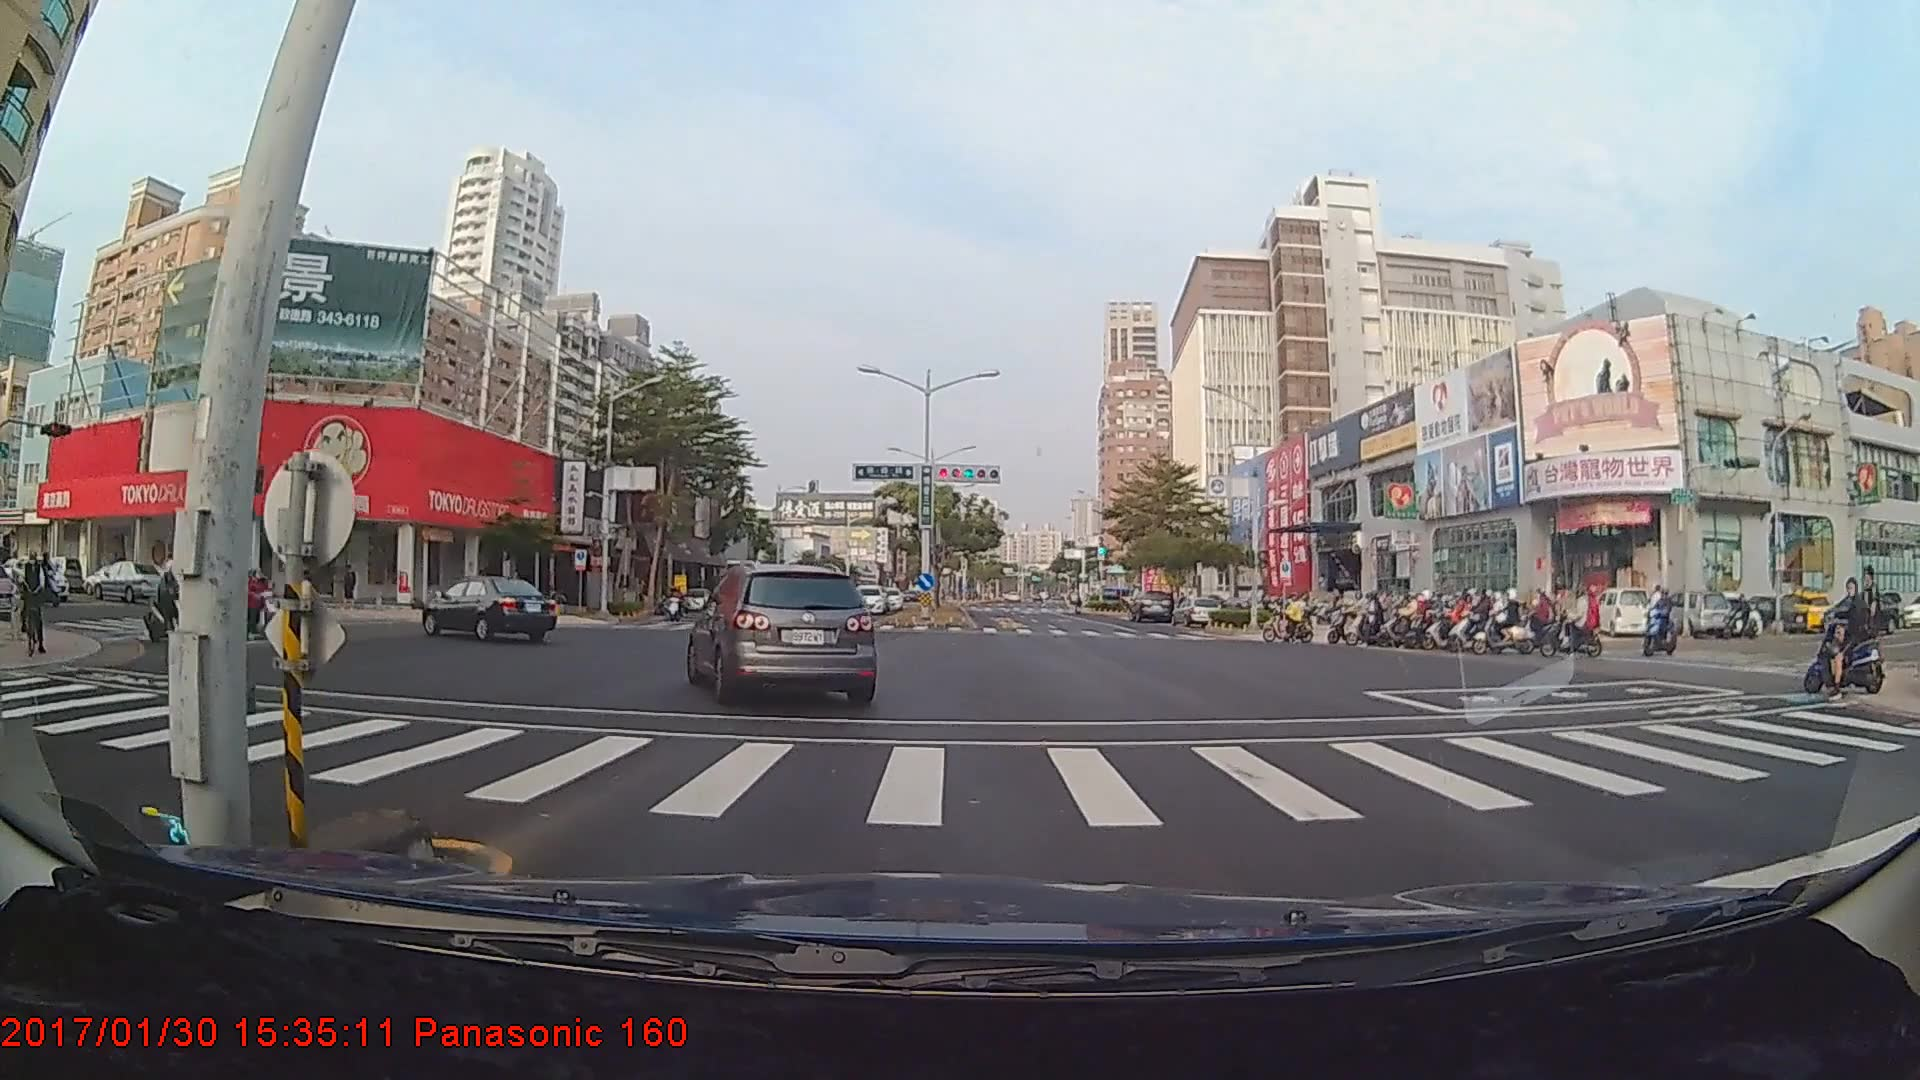pedestrian: (1857, 566, 1888, 681)
rider: (1804, 566, 1899, 701), (1536, 578, 1607, 664), (142, 558, 209, 648), (228, 571, 291, 642), (11, 555, 53, 662), (1479, 588, 1538, 655), (1315, 592, 1377, 646), (1450, 590, 1507, 648), (1259, 591, 1316, 642), (1359, 593, 1412, 648), (1420, 598, 1477, 648), (1643, 590, 1683, 658), (660, 584, 687, 621)
vehicle: (685, 560, 879, 703), (420, 576, 558, 644), (89, 560, 170, 603), (1129, 588, 1174, 624), (851, 583, 885, 614)
